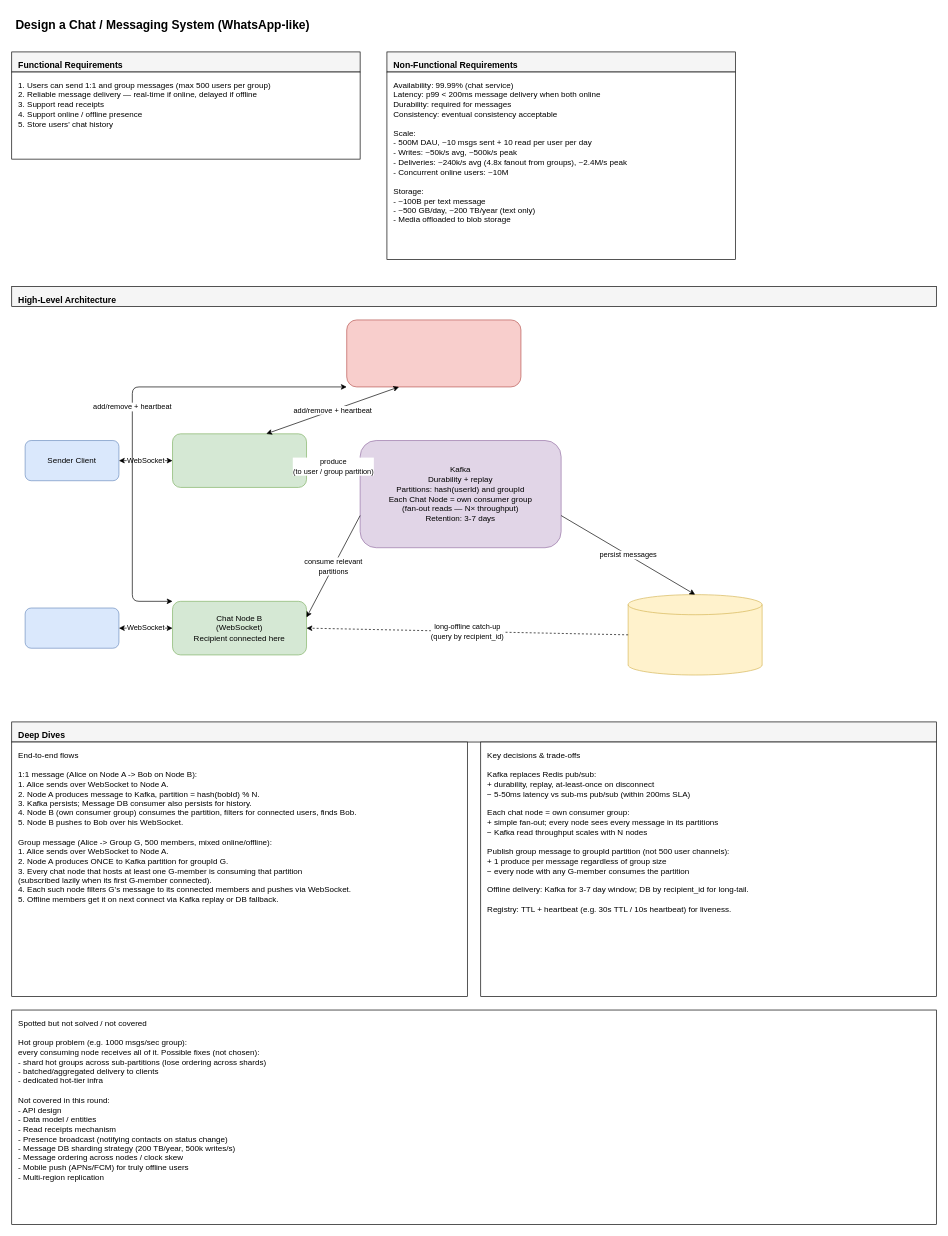
The diagram is 948 pixels wide and 1236 high, and some of its shapes have lost their labels. The centre of each missing label's shape, as x and y in pixels:
"Chat Node A (WebSocket) Sender connected here" belongs at (x=239, y=460).
"Message DB (durable history; long-tail offline delivery fallback)" belongs at (x=694, y=634).
"Recipient Client" belongs at (x=71, y=627).
"Redis Connection Registry userId -> nodeId TTL + heartbeat" belongs at (x=433, y=353).
